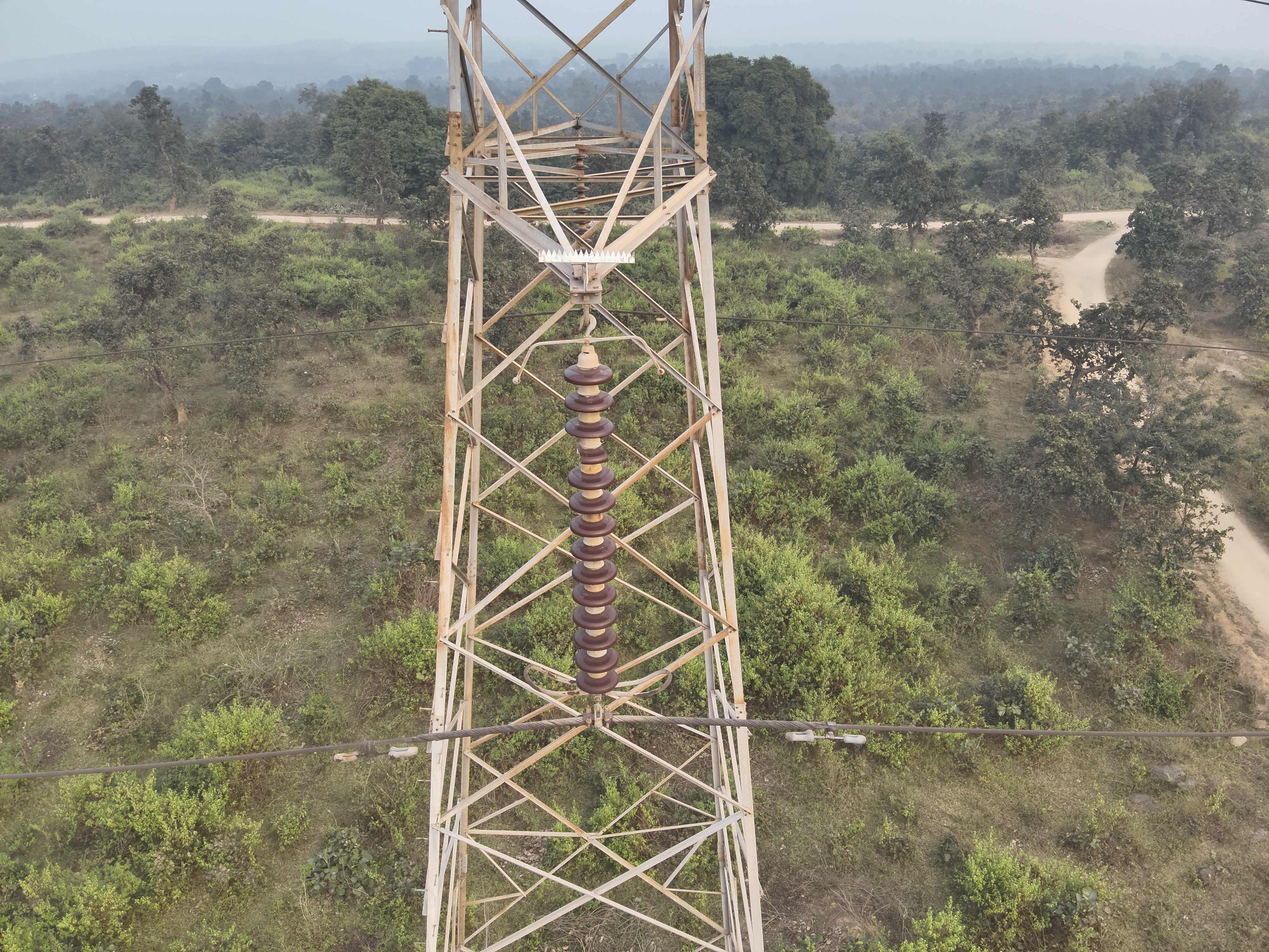broken_insulator: (563, 438, 615, 468)
